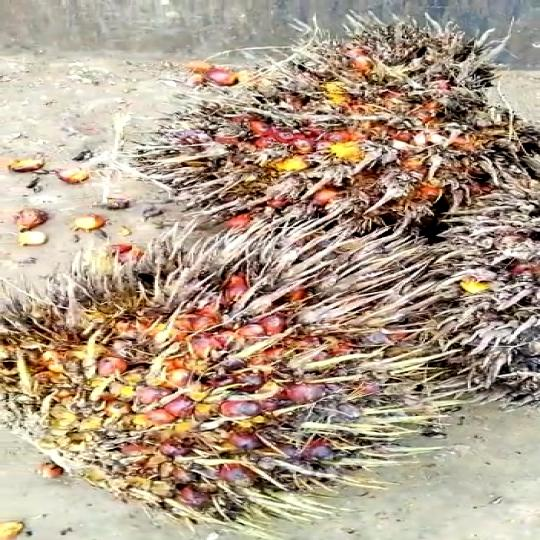terlalu masak: (0, 222, 480, 540), (103, 10, 540, 243)
